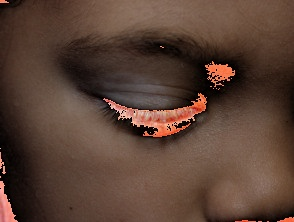vitiligo: (49, 42, 216, 157)
